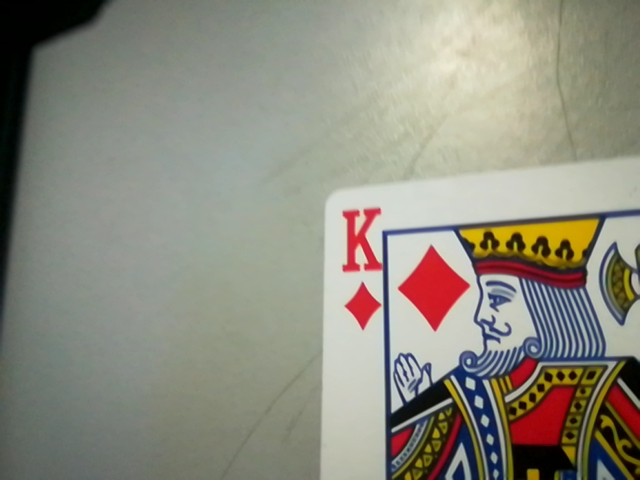fk k: (330, 200, 391, 329)
